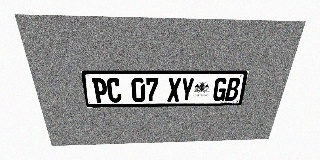0: (131, 78, 145, 102)
7: (145, 78, 158, 102)
B: (224, 78, 241, 101)
C: (106, 78, 122, 102)
G: (212, 78, 228, 101)
P: (91, 78, 108, 103)
X: (167, 78, 181, 102)
Y: (180, 78, 194, 101)
